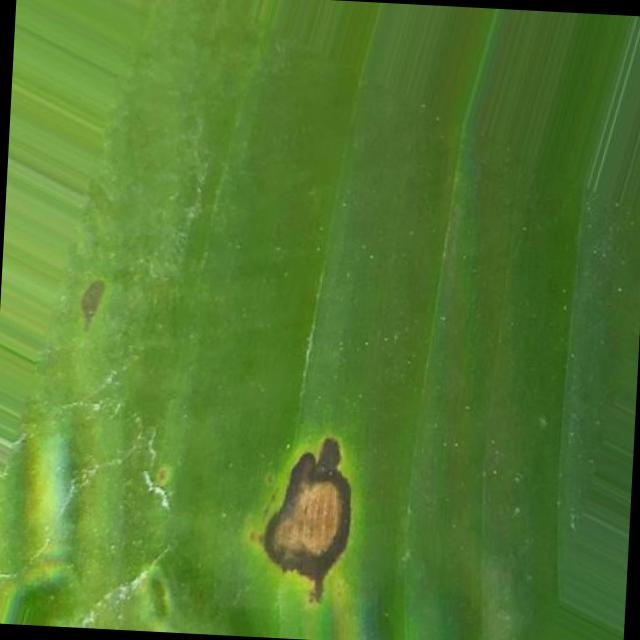Banana_Black_Sigatoka: (249, 362, 441, 640)
